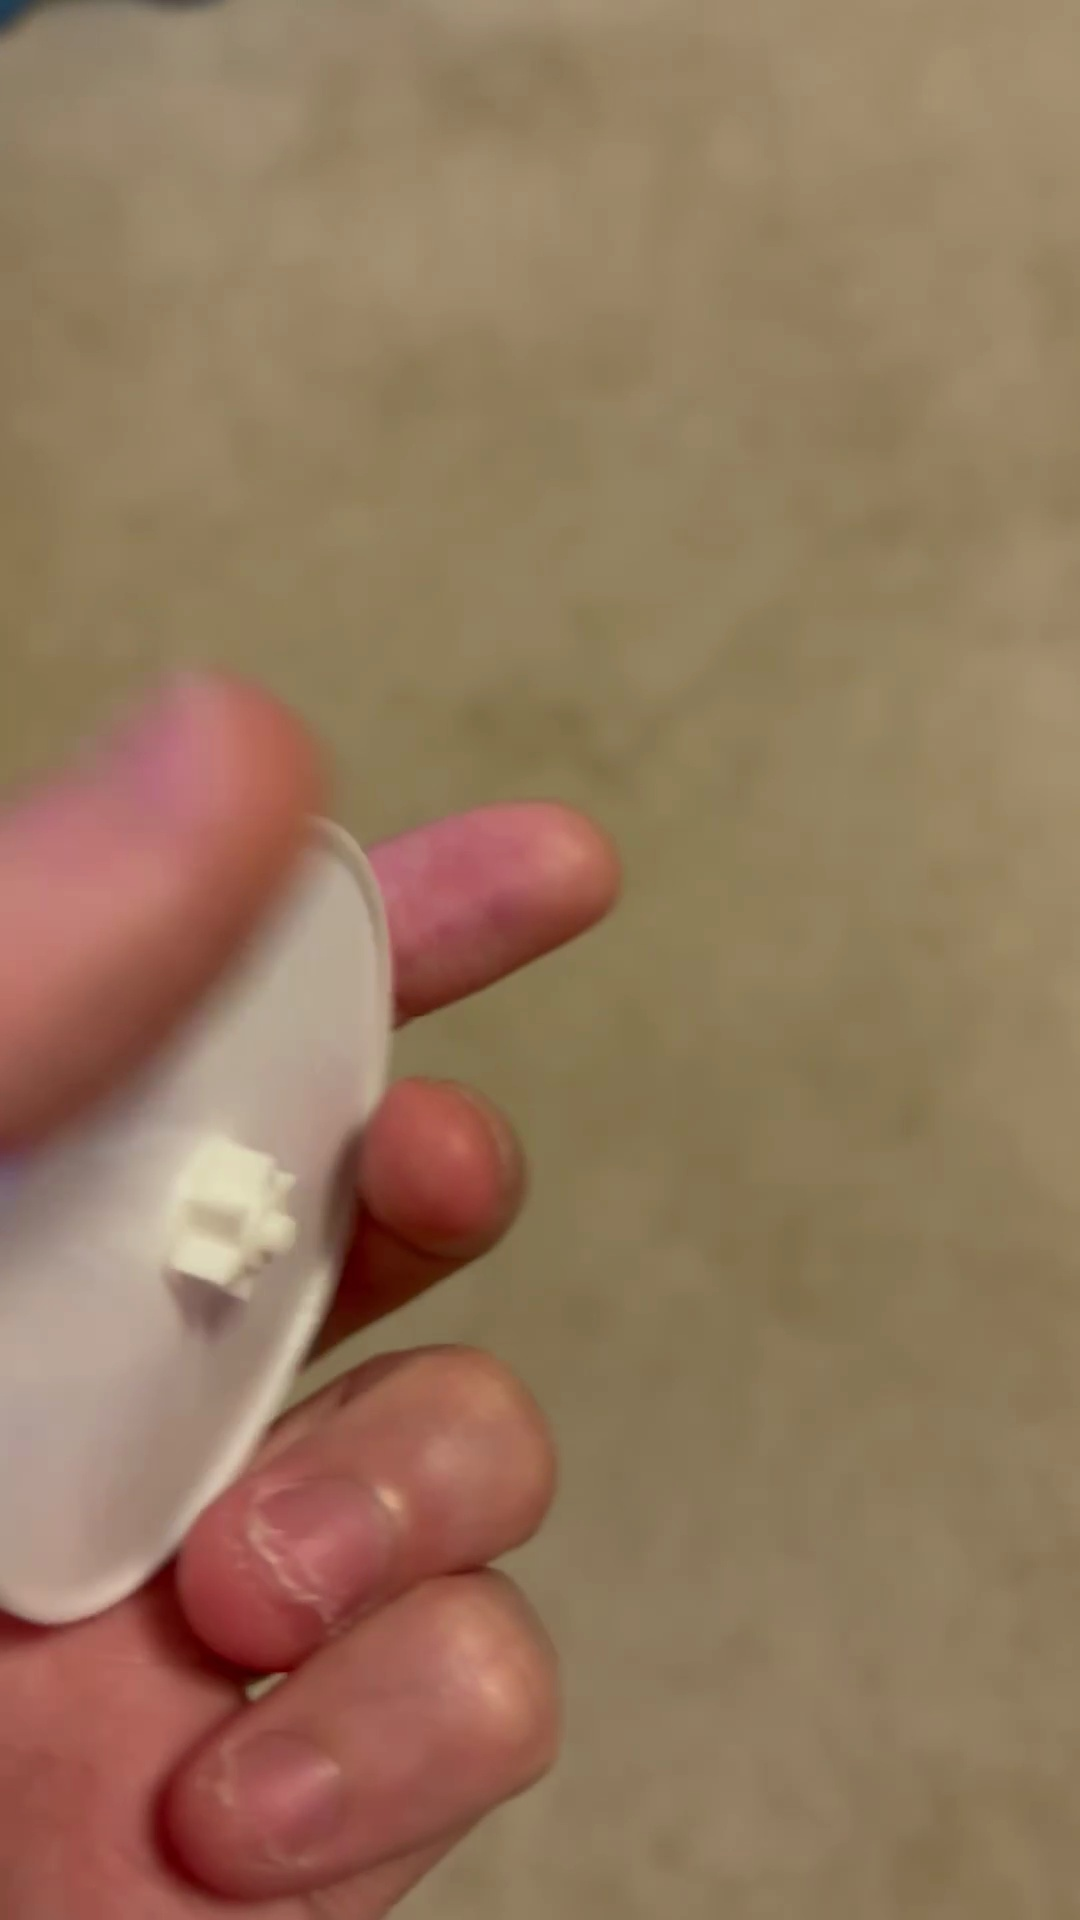Part1: (0, 824, 392, 1625)
